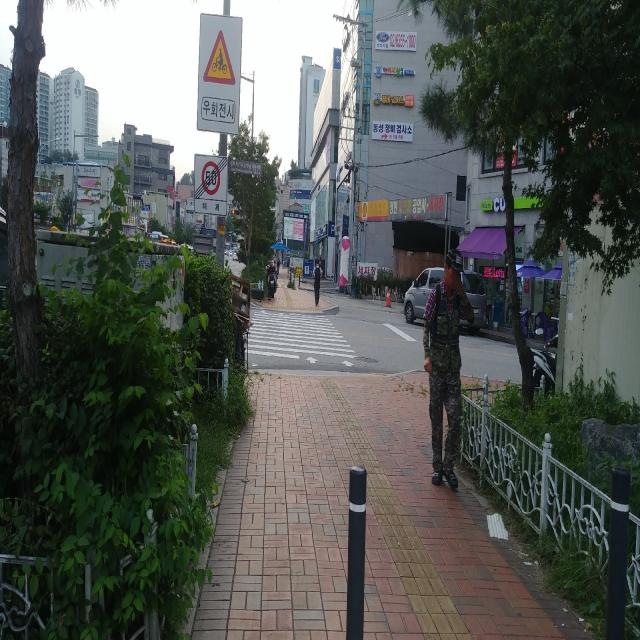횡단보도: (244, 310, 358, 368)
